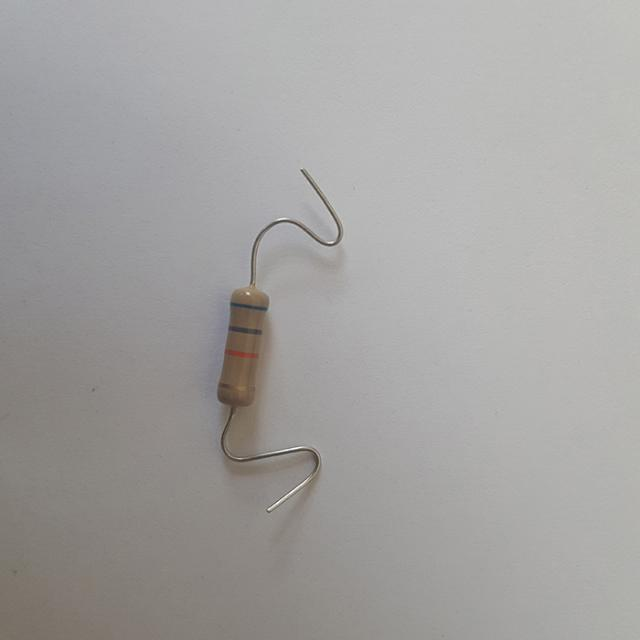blue: (230, 301, 266, 311)
gold: (219, 382, 253, 391)
grey: (229, 325, 261, 334)
orange: (225, 348, 256, 357)
resistor: (197, 277, 289, 425)
